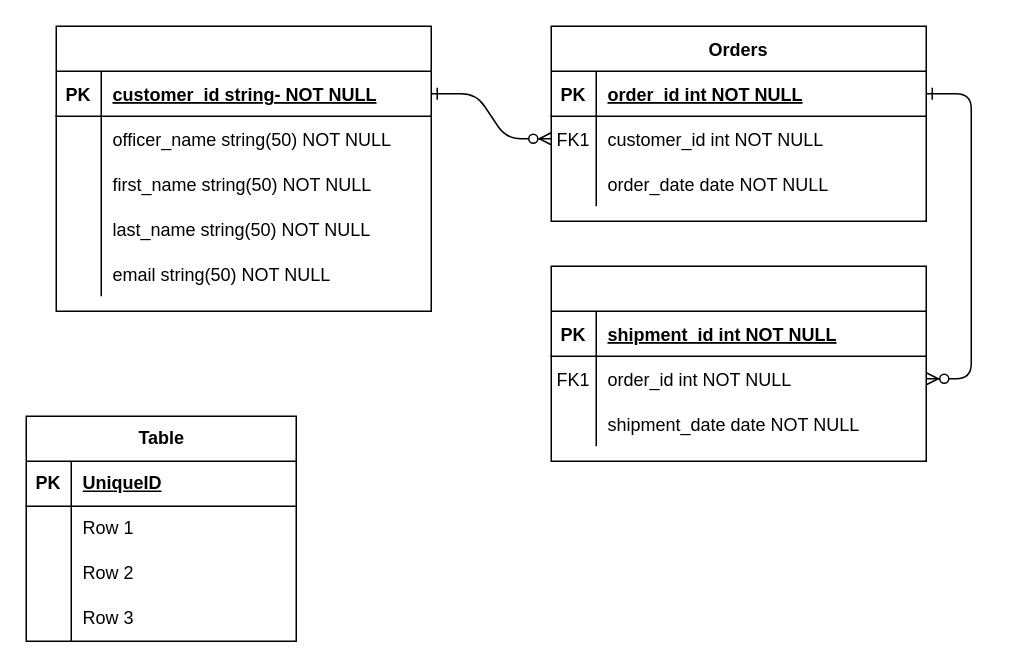
This 1011x668 diagram has some shape labels left out. The shapes that lost their labels are listed below. From the top down, each one's box as (x1, y1, x2, y2) in pixels, then its label:
(55, 25, 431, 311): Officers
(550, 265, 926, 461): Shipments
